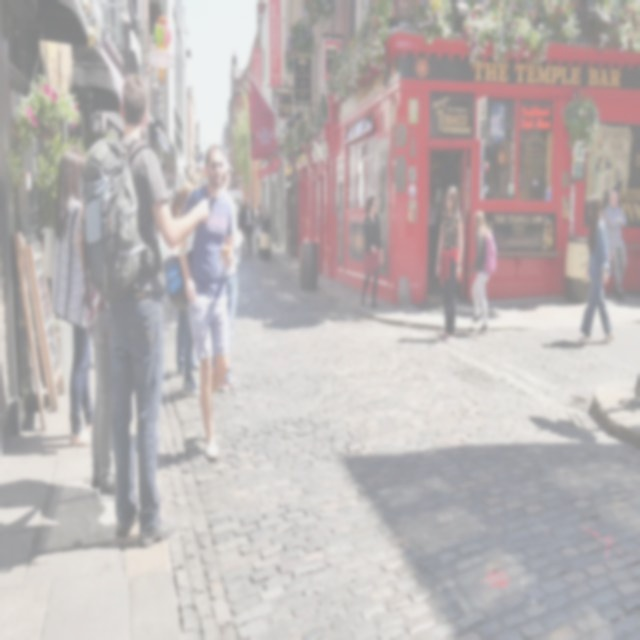pessoa: (104, 68, 212, 552), (174, 138, 243, 470), (53, 145, 94, 451), (574, 180, 617, 350), (172, 186, 202, 374), (220, 154, 243, 392), (177, 182, 202, 398), (436, 184, 464, 346), (358, 192, 386, 314), (603, 188, 628, 304), (468, 209, 490, 336), (243, 195, 254, 258), (253, 201, 264, 259), (237, 202, 247, 252), (262, 202, 270, 222), (244, 197, 248, 208)
